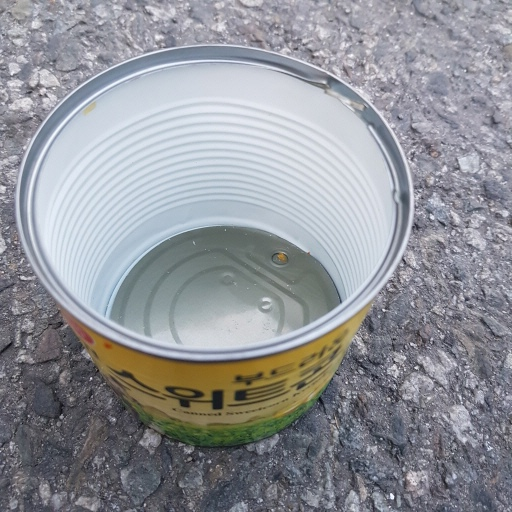Metal_1: (14, 45, 416, 444)
